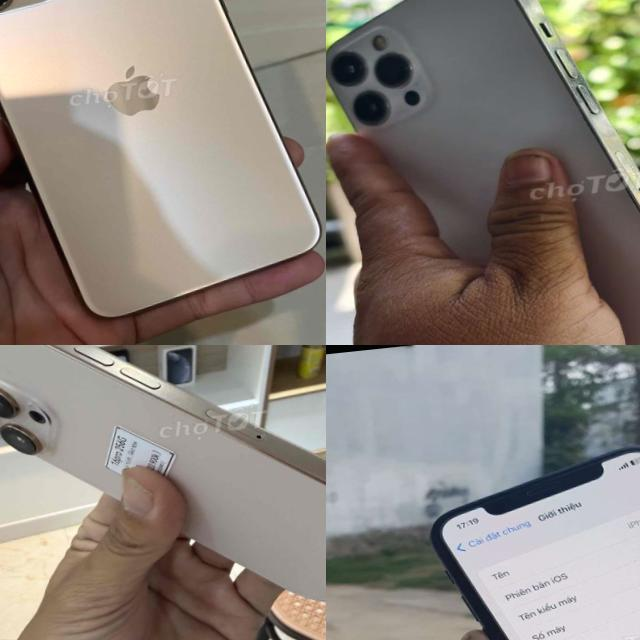gen_11: (0, 0, 326, 335)
gen_12_13: (326, 0, 640, 345)
gen_16: (0, 345, 326, 640)
gen_x_xs: (431, 446, 640, 640)
